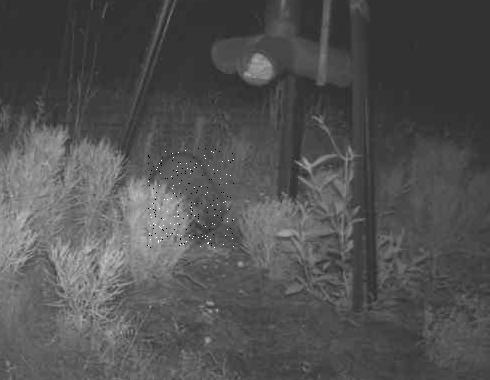Raccoon: (148, 148, 235, 248)
